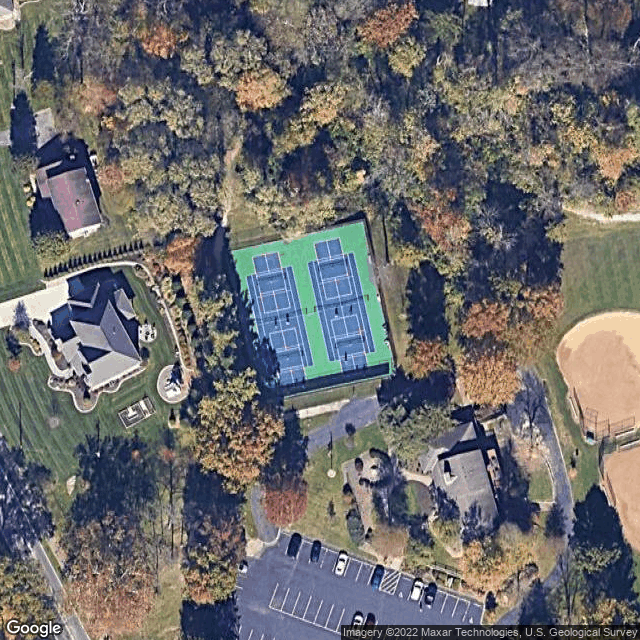Court: (305, 253, 377, 363), (245, 265, 315, 372)
